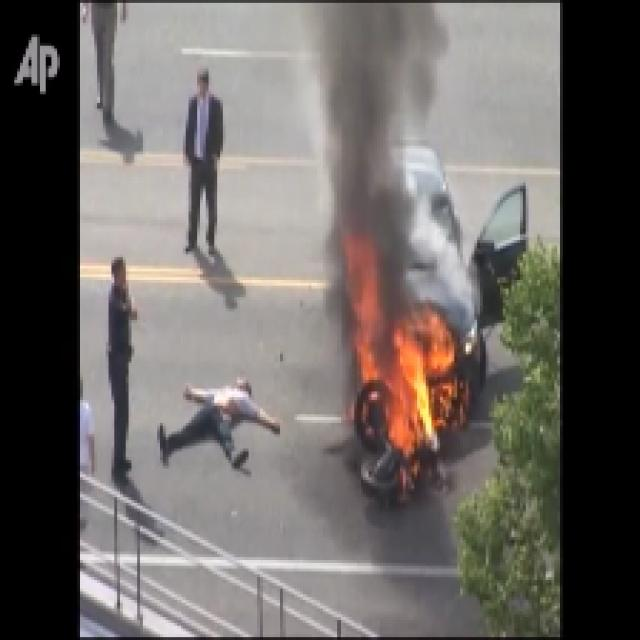fire: (345, 301, 457, 478)
smoke: (309, 2, 452, 229)
